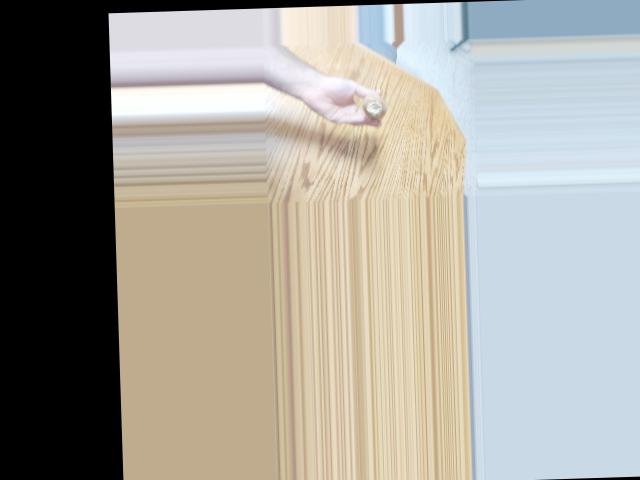sweet_potato: (361, 91, 393, 116)
